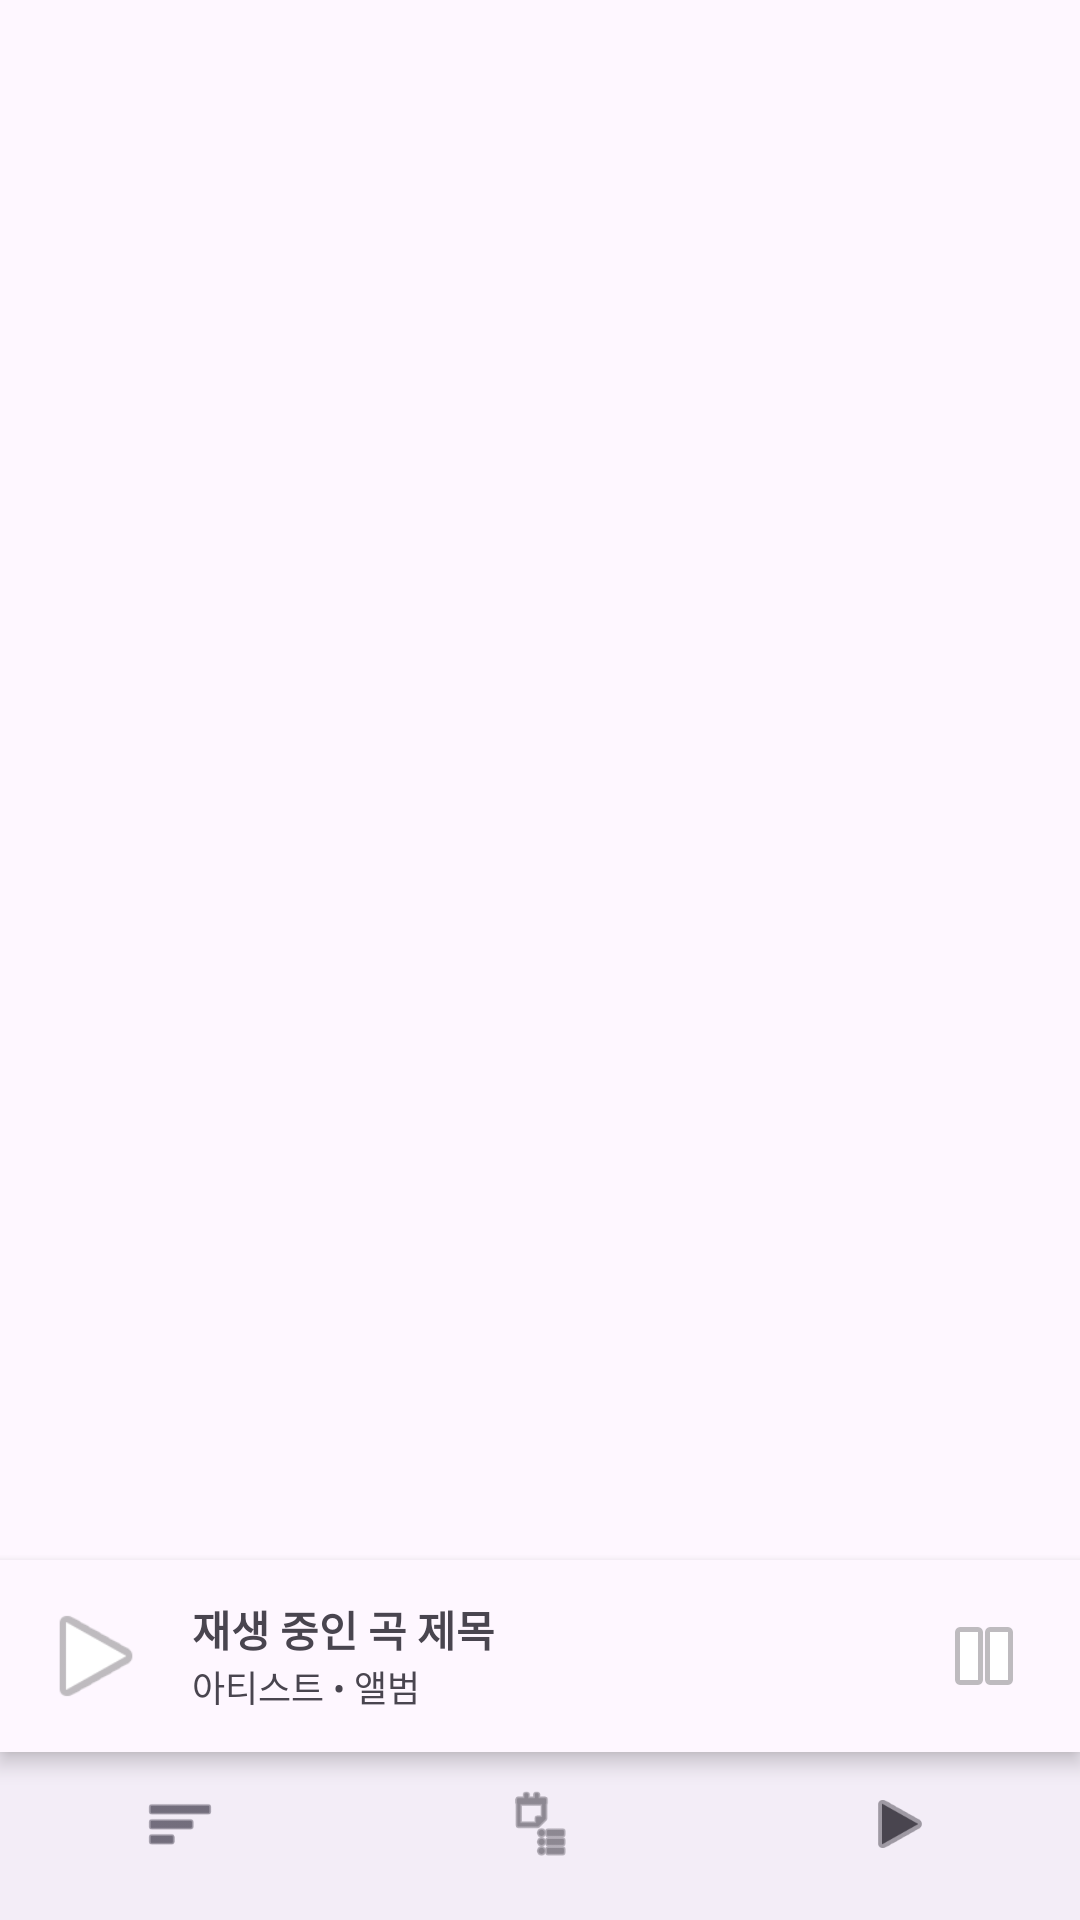

Locate icon controls on the screen. Image size 1080x1920, boxes as (left=x1, top=y1, right=x2, bottom=y2).
Play/Pause: (left=955, top=1627, right=1013, bottom=1685)
